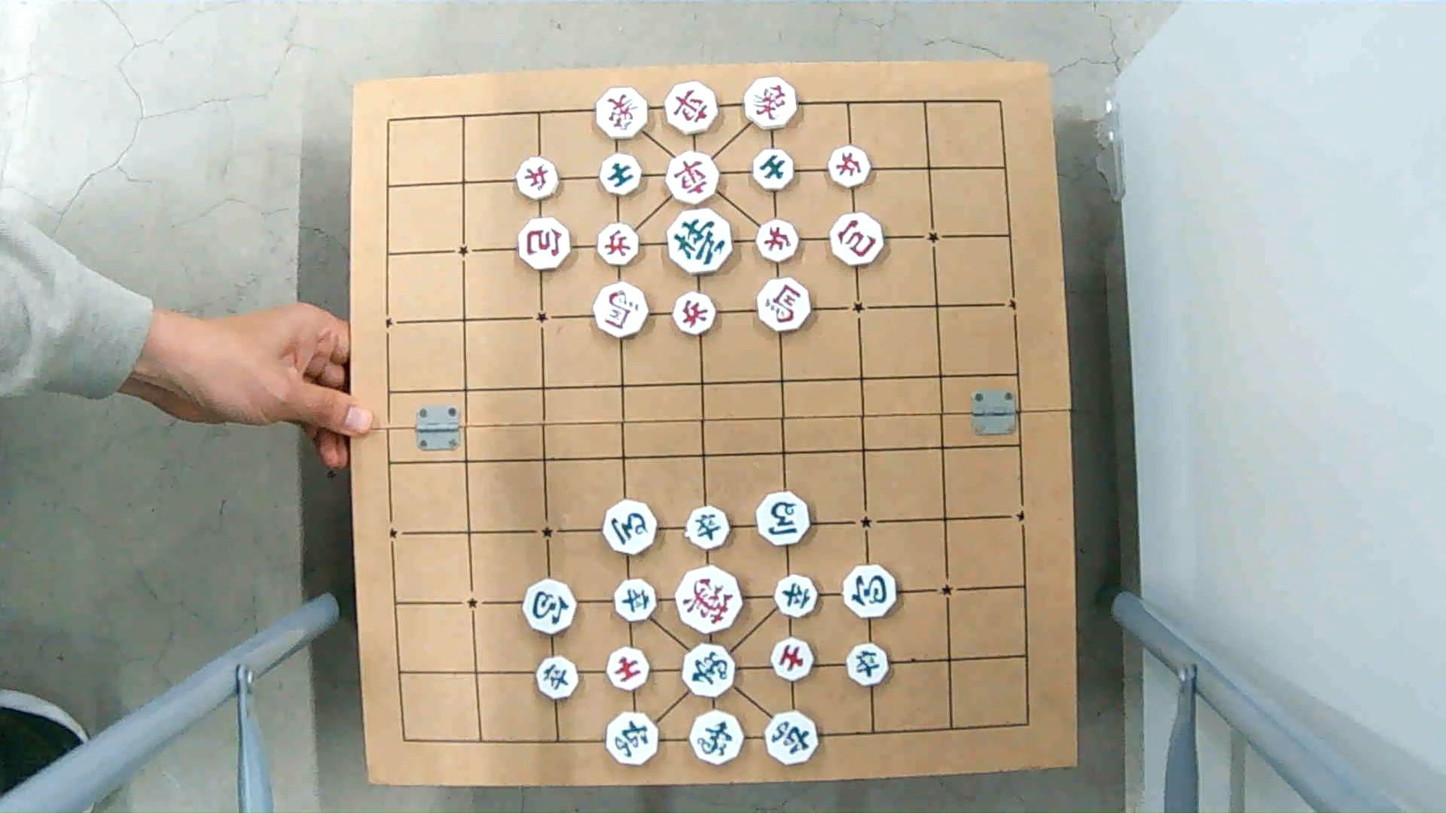cha_green: (761, 714, 822, 763), (604, 714, 664, 763)
cha_red: (664, 82, 721, 136), (664, 155, 723, 203)
jol_green: (684, 509, 733, 549), (611, 580, 660, 620), (773, 576, 821, 616), (845, 643, 892, 682), (535, 658, 578, 699)
jol_red: (825, 146, 874, 188), (752, 221, 801, 261), (670, 292, 720, 331), (592, 226, 641, 264), (515, 160, 563, 198)
ma_green: (753, 495, 813, 545), (599, 504, 659, 551)
ma_red: (595, 283, 649, 339), (760, 279, 818, 327)
po_green: (840, 567, 899, 616), (523, 583, 581, 632)
po_red: (828, 215, 886, 264), (517, 219, 574, 268)
sa_green: (596, 155, 644, 193), (751, 151, 796, 190)
sa_red: (769, 638, 816, 681), (608, 644, 648, 690)
sang_green: (688, 713, 748, 763), (681, 646, 738, 694)
sang_red: (741, 80, 803, 128), (596, 90, 655, 138)
wang_green: (667, 210, 734, 269)
wang_red: (673, 565, 746, 632)
